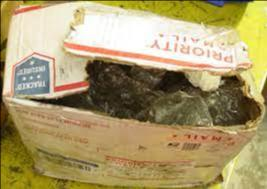damage_box: (2, 1, 263, 186)
